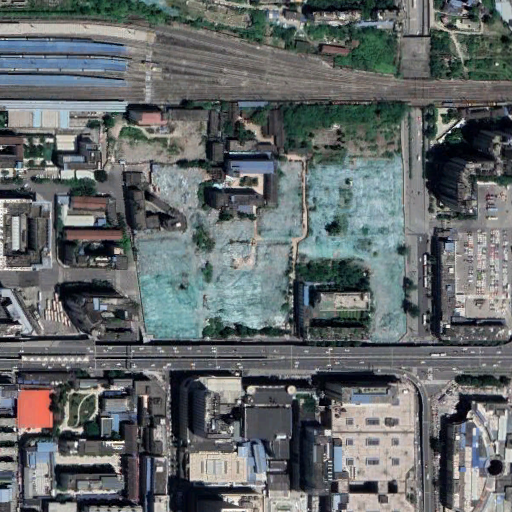cw: (131, 156, 407, 343)
